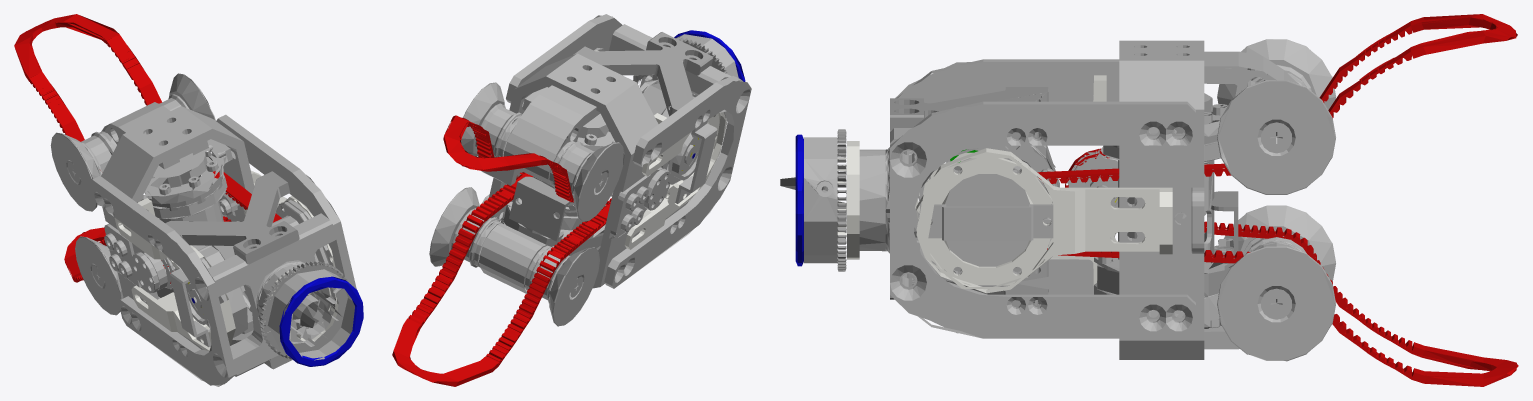
The model's file is ArmL_Elb2_joint_visu.dae.
The picture shows the model from 3 angles, left to right: view 1: azimuth 30°, elevation 25°; view 2: azimuth 150°, elevation 25°; view 3: azimuth 270°, elevation 25°; orthographic projection. The views are drawn at different scales.
Visible parts, largest first — view 1: Visualization_ALDof6; view 2: Visualization_ALDof6; view 3: Visualization_ALDof6.
Part boxes in pixels (<box>): Visualization_ALDof6: <box>14,14,363,386</box>; Visualization_ALDof6: <box>392,14,751,386</box>; Visualization_ALDof6: <box>780,14,1518,386</box>.
Size of the model in its own units: 0.0631 by 0.1737 by 0.0875.
